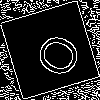O: (25, 25, 84, 82)
